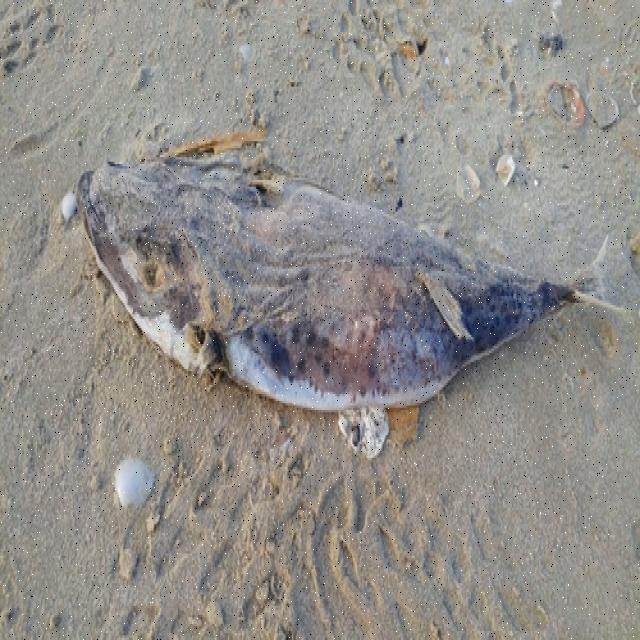Balik: (77, 155, 593, 412)
